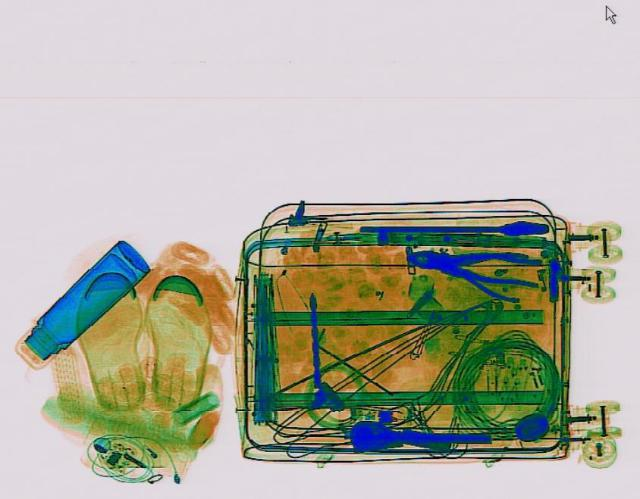Pliers: (404, 242, 546, 287)
